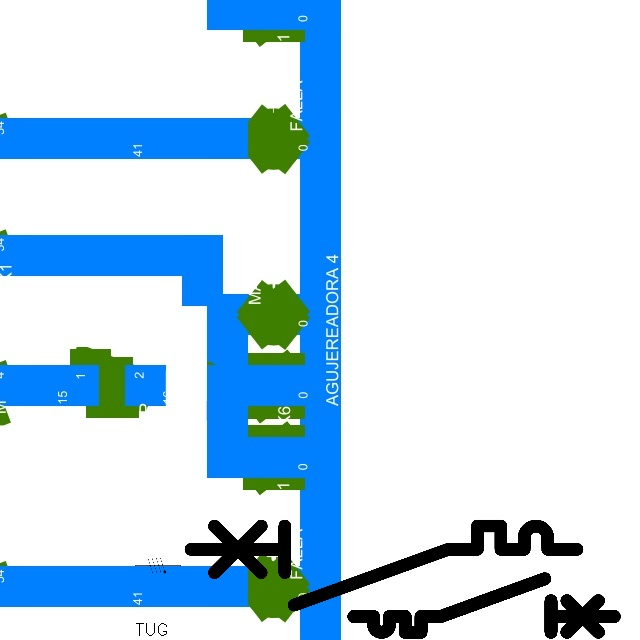interruptor_termomagnetico: (180, 516, 586, 615), (347, 572, 621, 639)
